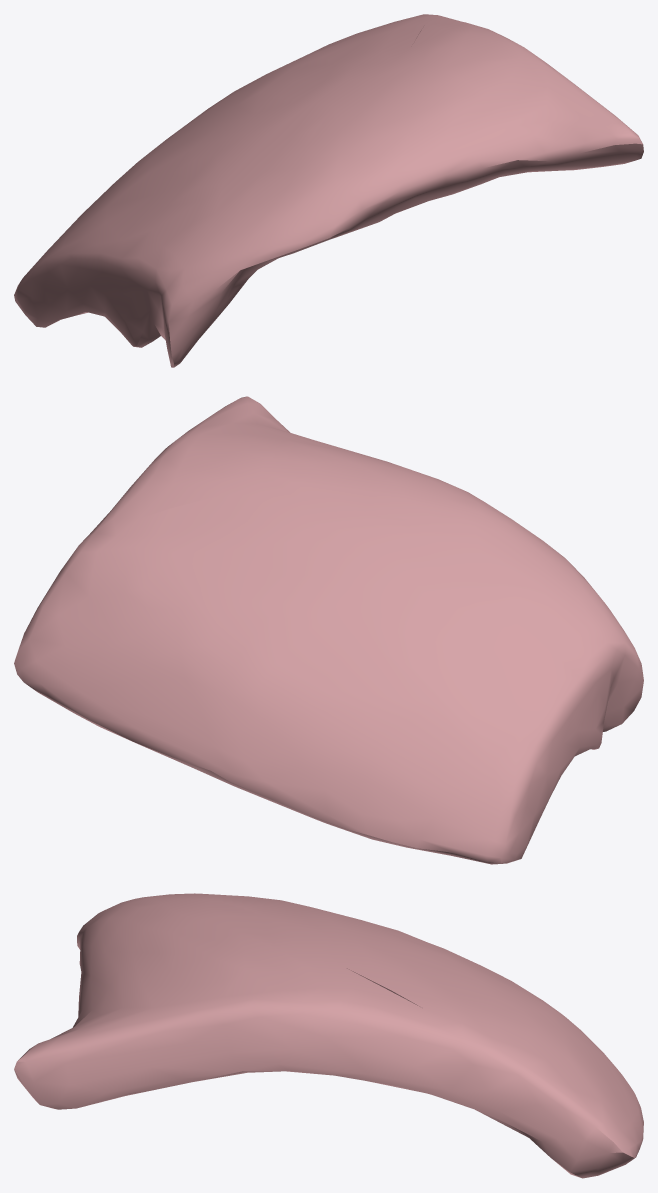
Rendered from fma9562_mm460.glb.
The picture shows the model from 3 angles, top to bottom: view 1: azimuth 30°, elevation 25°; view 2: azimuth 150°, elevation 25°; view 3: azimuth 270°, elevation 25°; orthographic projection. The views are drawn at different scales.
Parts seen in each view (by area): view 1: FMA9562_MM460; view 2: FMA9562_MM460; view 3: FMA9562_MM460.
Part boxes in pixels (x1,y1,x2,y2): FMA9562_MM460: [14, 14, 643, 367]; FMA9562_MM460: [14, 396, 643, 864]; FMA9562_MM460: [14, 893, 643, 1178].
Bounding box in the file's own units: 0.0347 × 0.018 × 0.0329.
